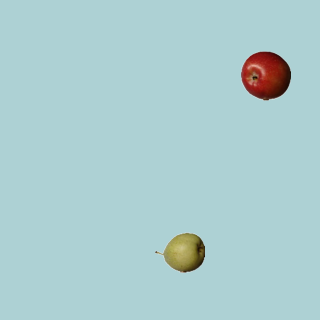Apple Braeburn: (240, 50, 290, 100)
Pear: (154, 227, 204, 277)
